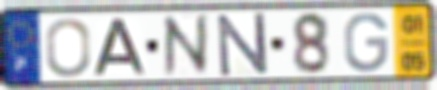8: (290, 10, 332, 77)
A: (91, 17, 150, 77)
G: (342, 11, 391, 75)
N: (215, 10, 271, 79), (159, 11, 213, 80)
O: (43, 16, 93, 79)
